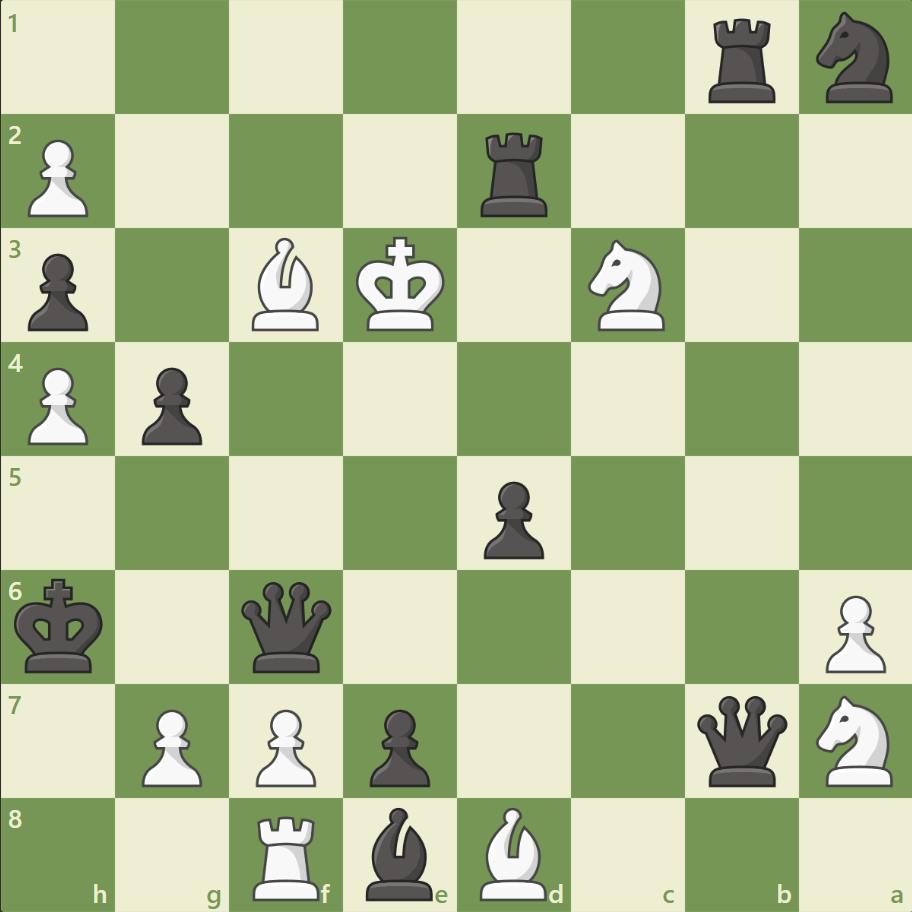B: (471, 801, 555, 904), (244, 233, 328, 336)
K: (351, 231, 451, 339)
N: (806, 688, 903, 791), (579, 234, 676, 337)
P: (247, 700, 322, 791), (133, 700, 208, 791), (20, 359, 95, 450), (20, 132, 95, 223), (815, 586, 889, 677)
R: (246, 806, 329, 904)
b: (358, 801, 442, 904)
k: (11, 571, 111, 679)
n: (806, 7, 903, 110)
p: (474, 473, 549, 564), (133, 359, 208, 450), (20, 246, 95, 337), (361, 700, 435, 791)
q: (237, 576, 336, 676), (691, 690, 790, 789)
r: (473, 125, 556, 222), (700, 12, 783, 109)
